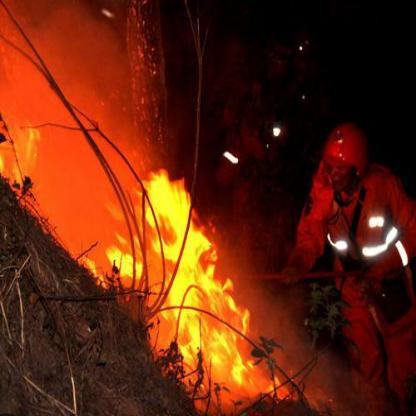fire: (76, 151, 270, 385)
other: (324, 202, 406, 266), (263, 122, 284, 148), (220, 143, 239, 166)
